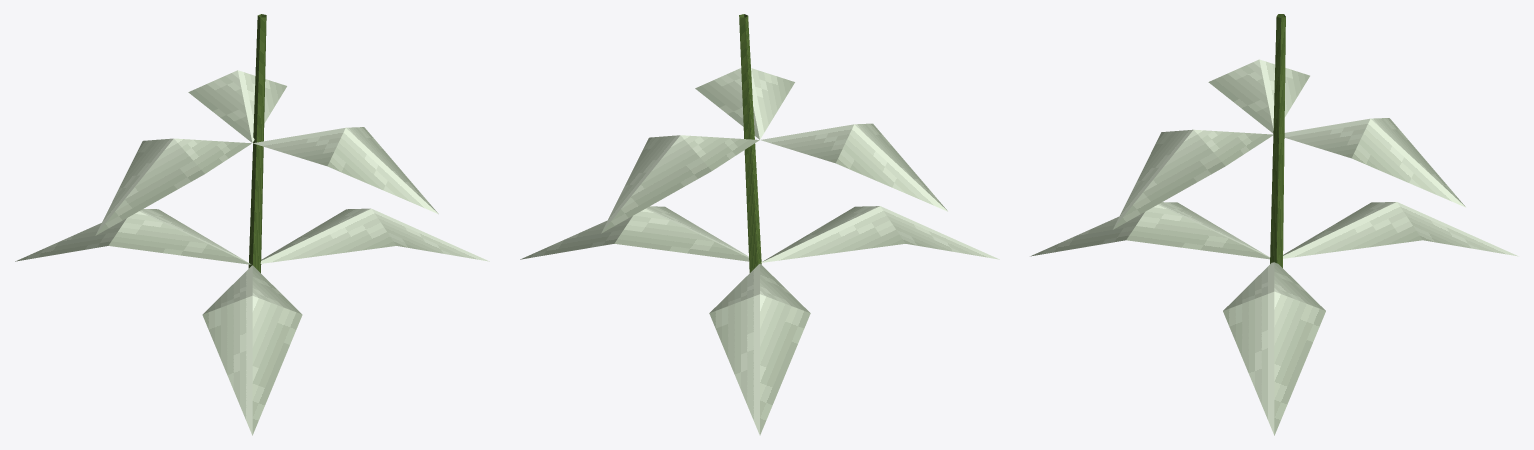
Rendered from hybrid_1_lod.obj.
The picture shows the model from 3 angles, left to right: view 1: azimuth 30°, elevation 25°; view 2: azimuth 150°, elevation 25°; view 3: azimuth 270°, elevation 25°; orthographic projection. The views are drawn at different scales.
Visible parts, largest first — view 1: plant; view 2: plant; view 3: plant.
Boxes of the visible parts, x1=… form: plant: x1=15, y1=14, x2=489, y2=435; plant: x1=520, y1=14, x2=999, y2=435; plant: x1=1030, y1=14, x2=1518, y2=435.
Bounding box in the file's own units: 0.6781 × 0.5507 × 0.682.
